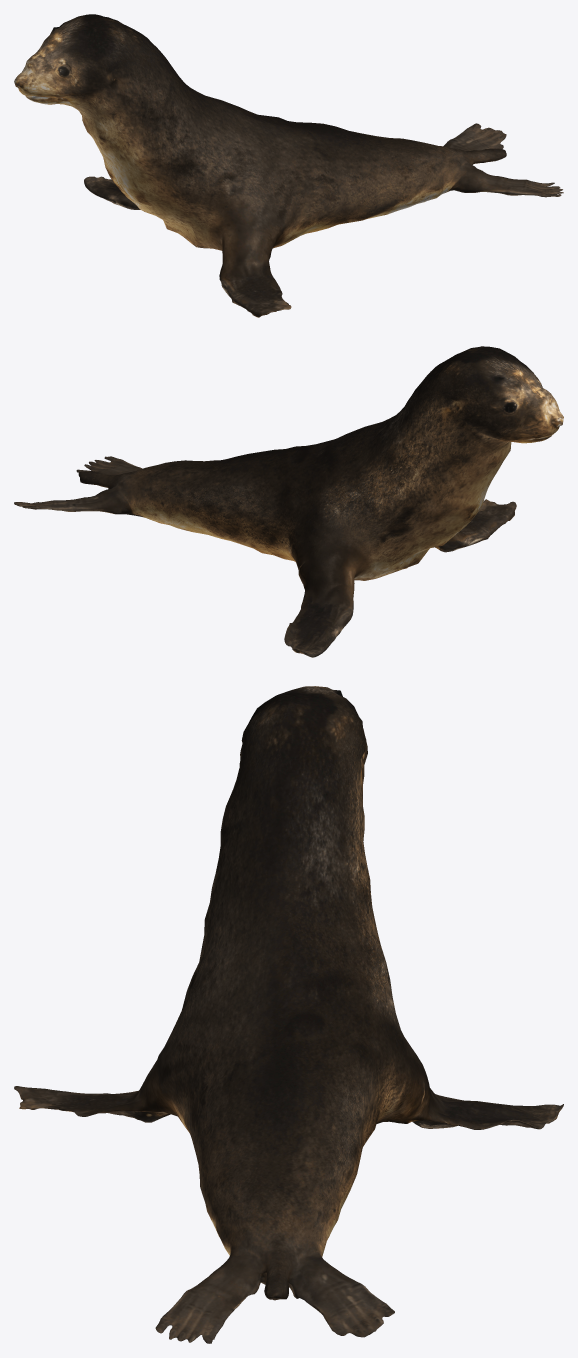
File: leaomarinho.obj
3 views of the same model, one above another, from view 1: azimuth 30°, elevation 25°; view 2: azimuth 150°, elevation 25°; view 3: azimuth 270°, elevation 25° (orthographic). The views are drawn at different scales.
Visible parts, largest first — view 1: polySurface1; view 2: polySurface1; view 3: polySurface1.
Part boxes in pixels (x1=…): polySurface1: x1=14, y1=14, x2=563, y2=317; polySurface1: x1=14, y1=346, x2=563, y2=657; polySurface1: x1=14, y1=686, x2=563, y2=1343.
Bounding box in the file's own units: 829 × 390 × 539.
